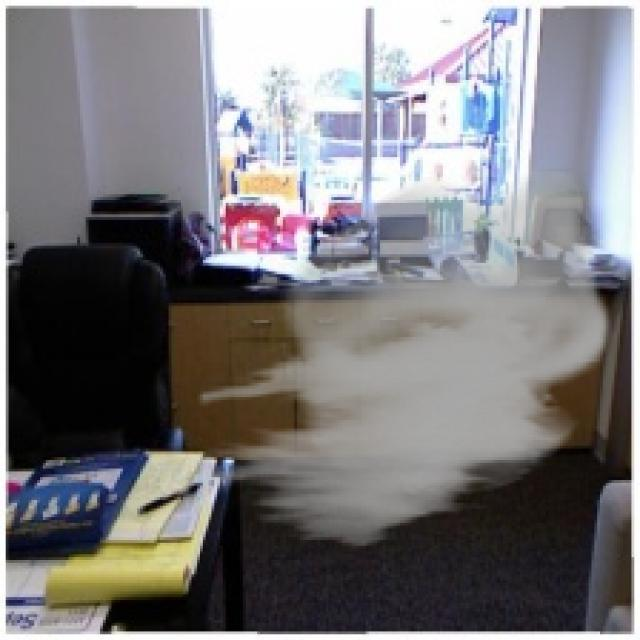Smoke: (197, 168, 612, 552)
